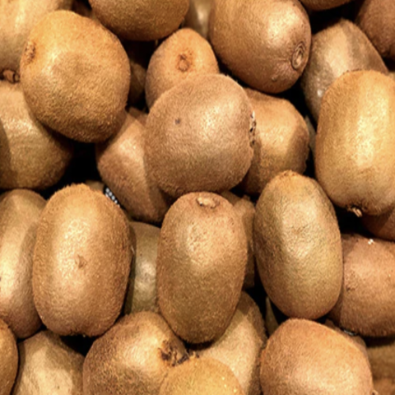kiwi: (141, 69, 280, 202), (29, 179, 137, 348), (11, 7, 136, 153), (240, 164, 361, 314), (154, 185, 252, 352), (305, 63, 395, 210)
